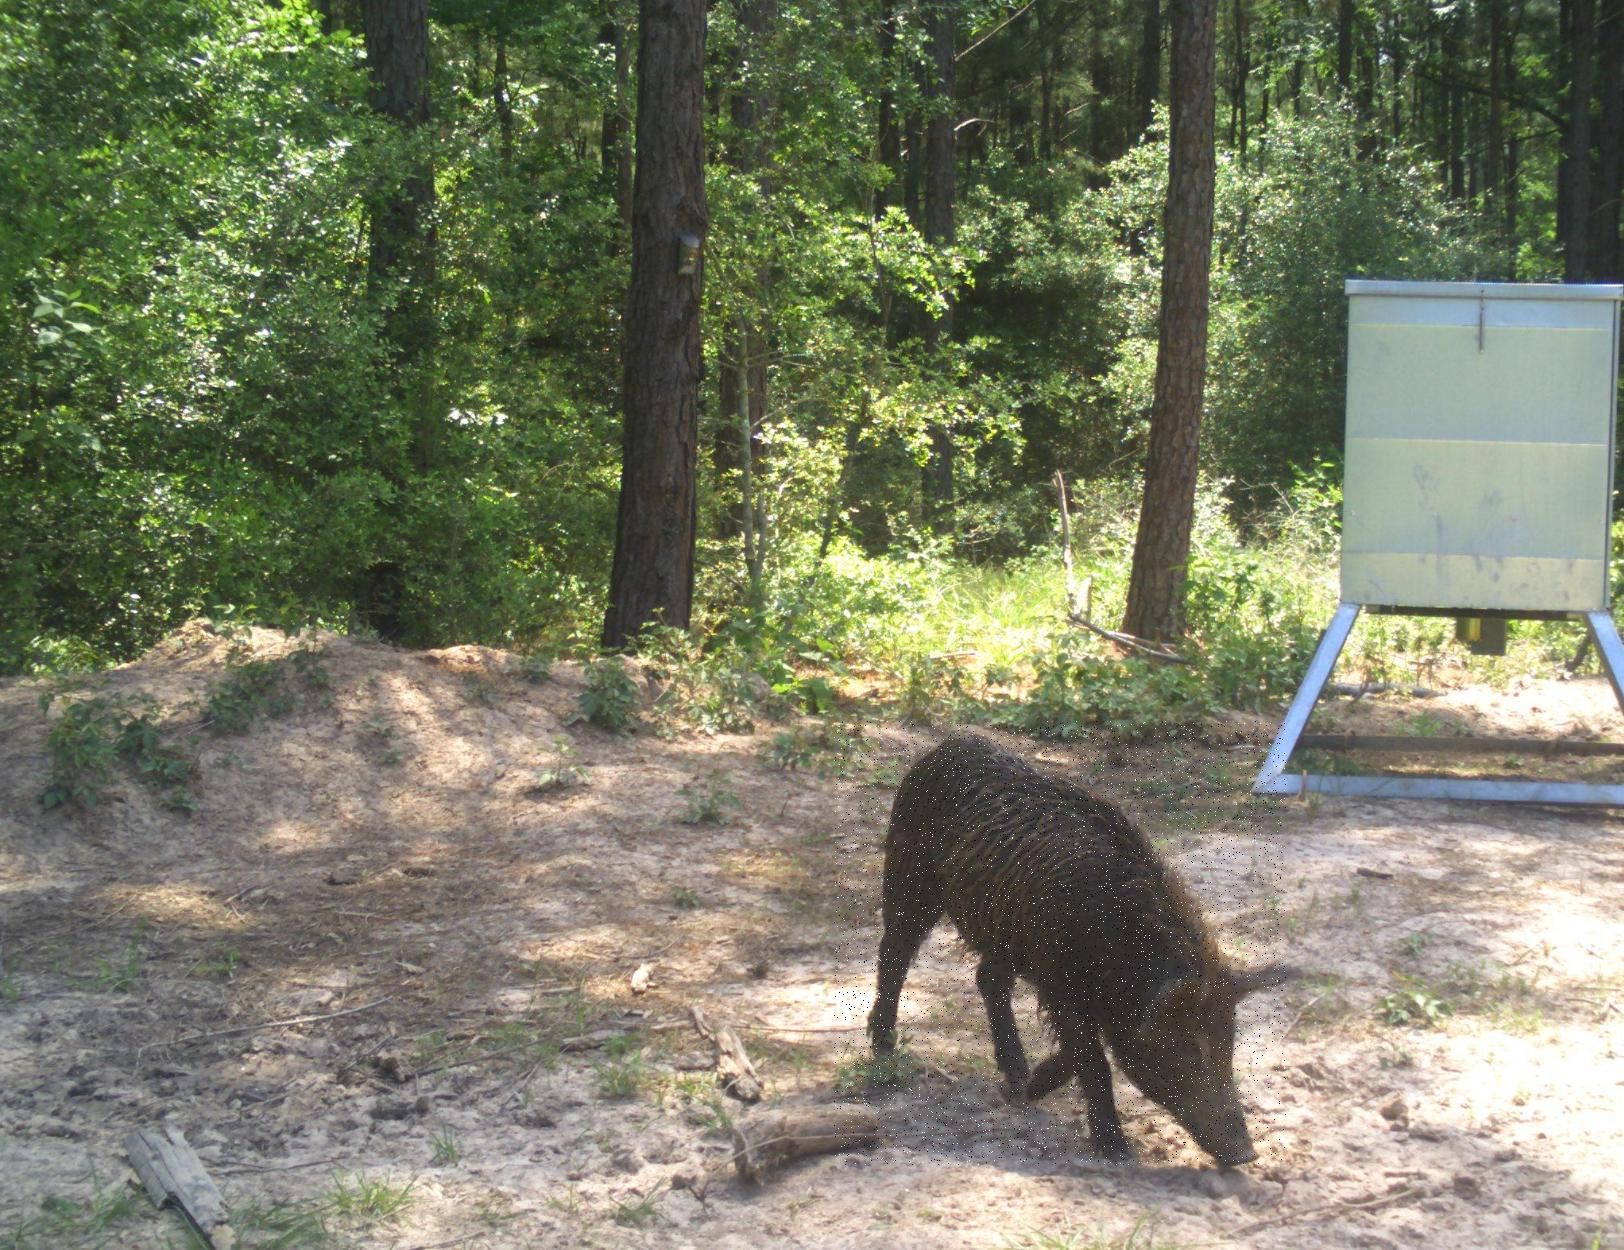Hog: (834, 721, 1287, 1165)
